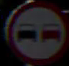No overtake: (7, 2, 64, 55)
